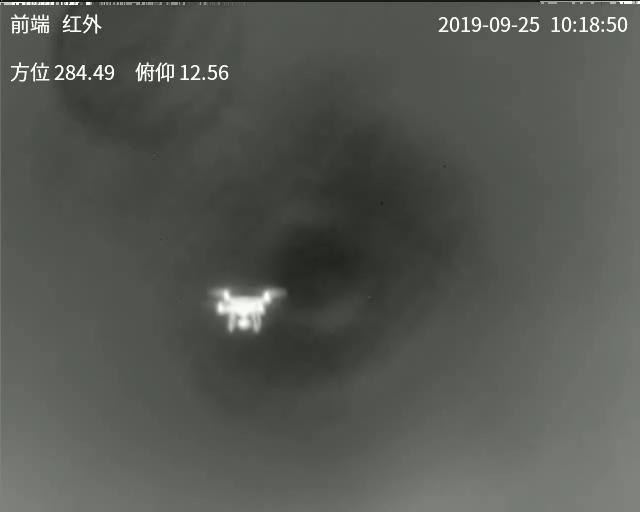uav: (206, 283, 288, 336)
